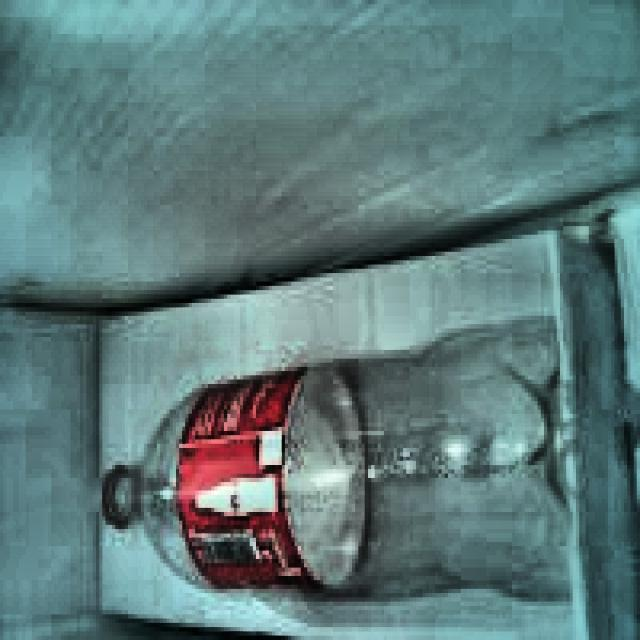plastic bottle: (102, 320, 570, 599)
